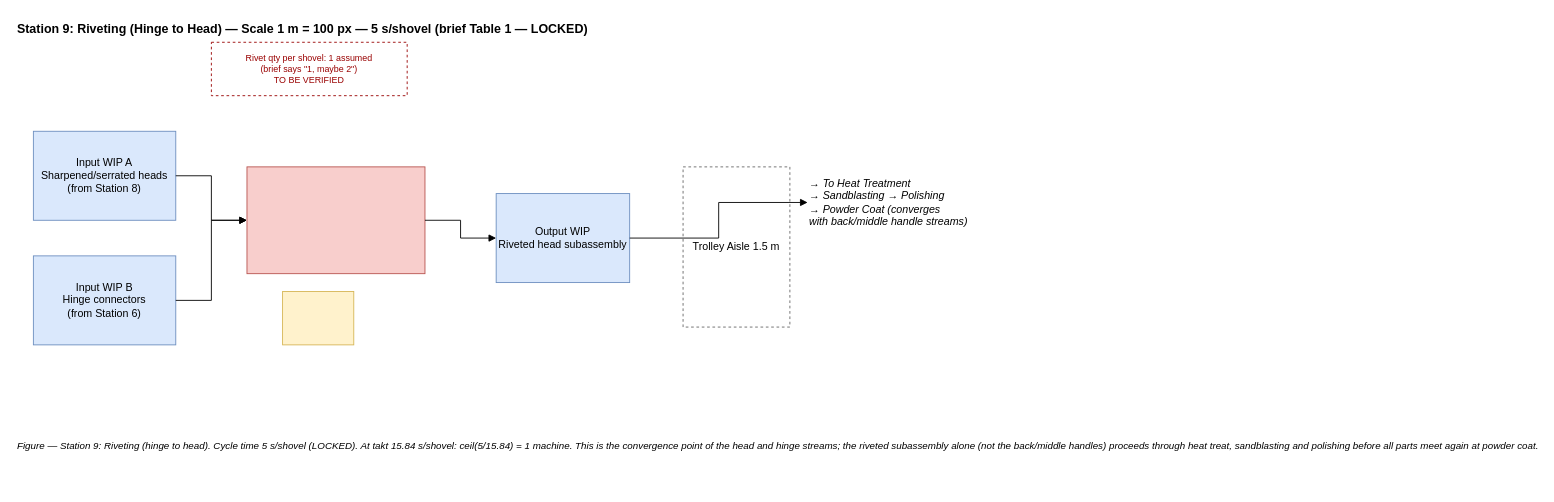
The diagram is 1554 pixels wide and 502 high, and some of its shapes have lost their labels. The shapes that lost their labels are listed below. From the top down, each one's centre as x and y in pixels, then its label:
(x=335, y=220): Riveting Gun / Press footprint ~0.8 x 0.8 m SUPPLIER-BASED ESTIMATE REQUIRED
(x=318, y=318): Operator zone
